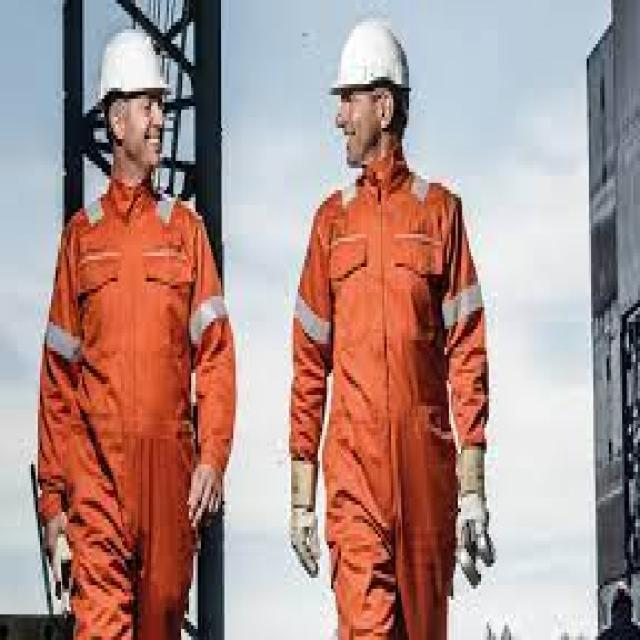vest: (288, 157, 491, 639), (36, 182, 236, 640)
